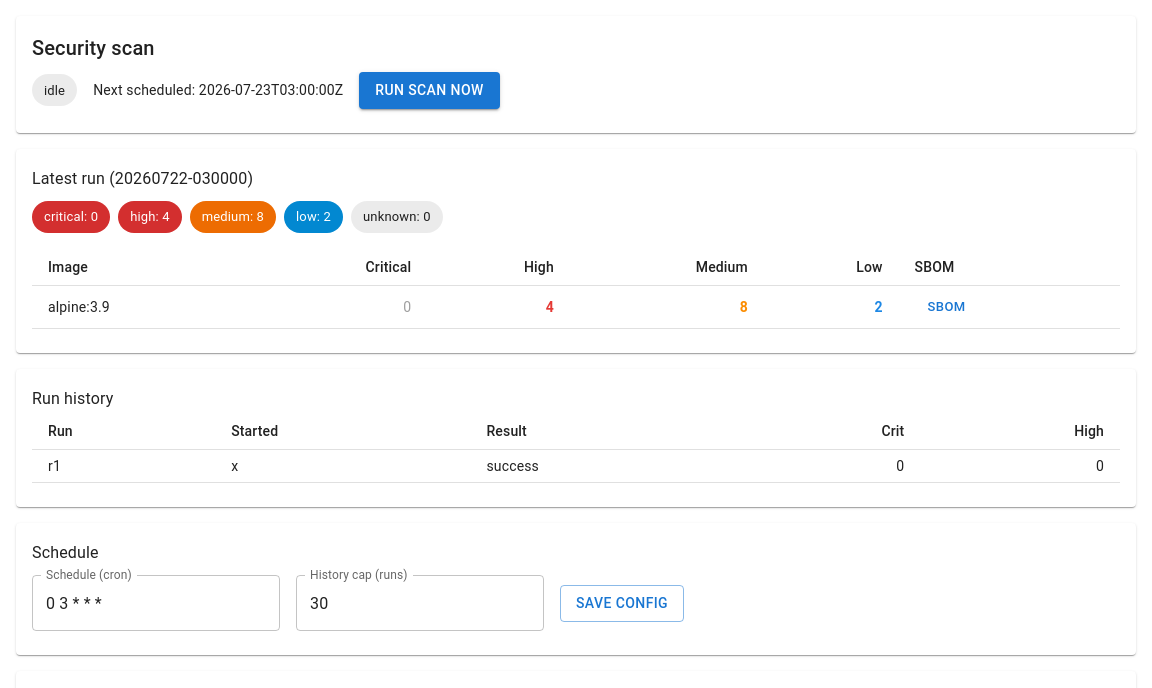
Test: run history + log › row click loads + shows the run log
Click the text "r1".
click(124, 466)  # box [32, 450, 215, 483]
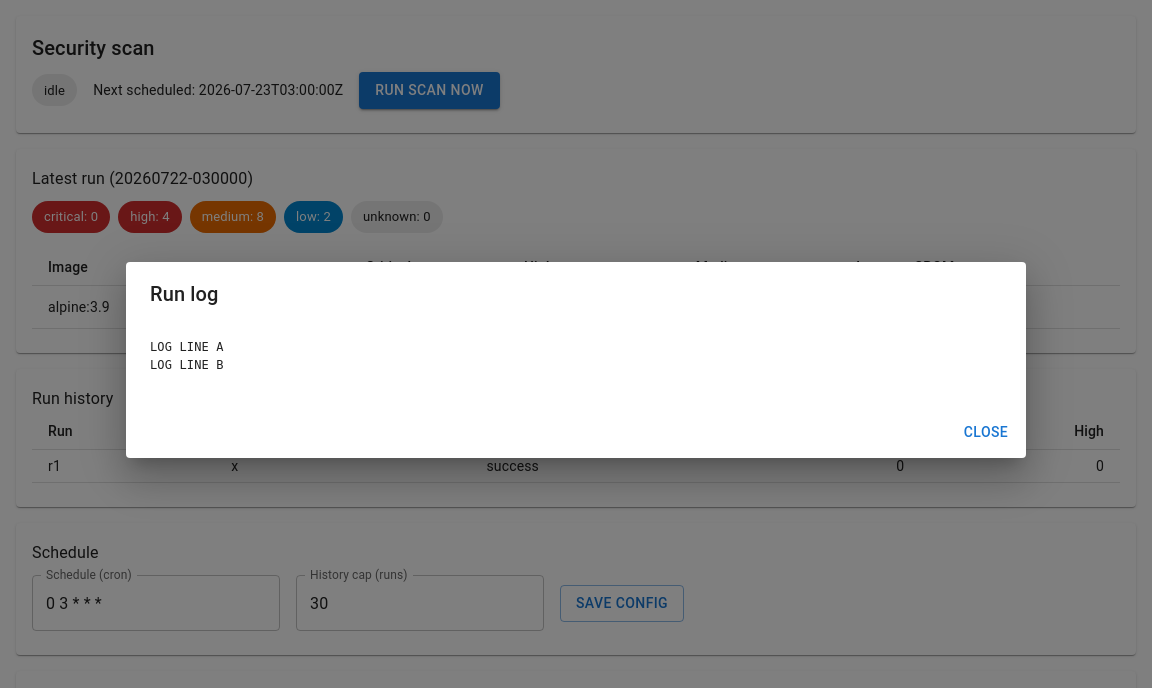
Result: the text "LOG LINE A LOG LINE B" is shown at [150, 340, 224, 372]
